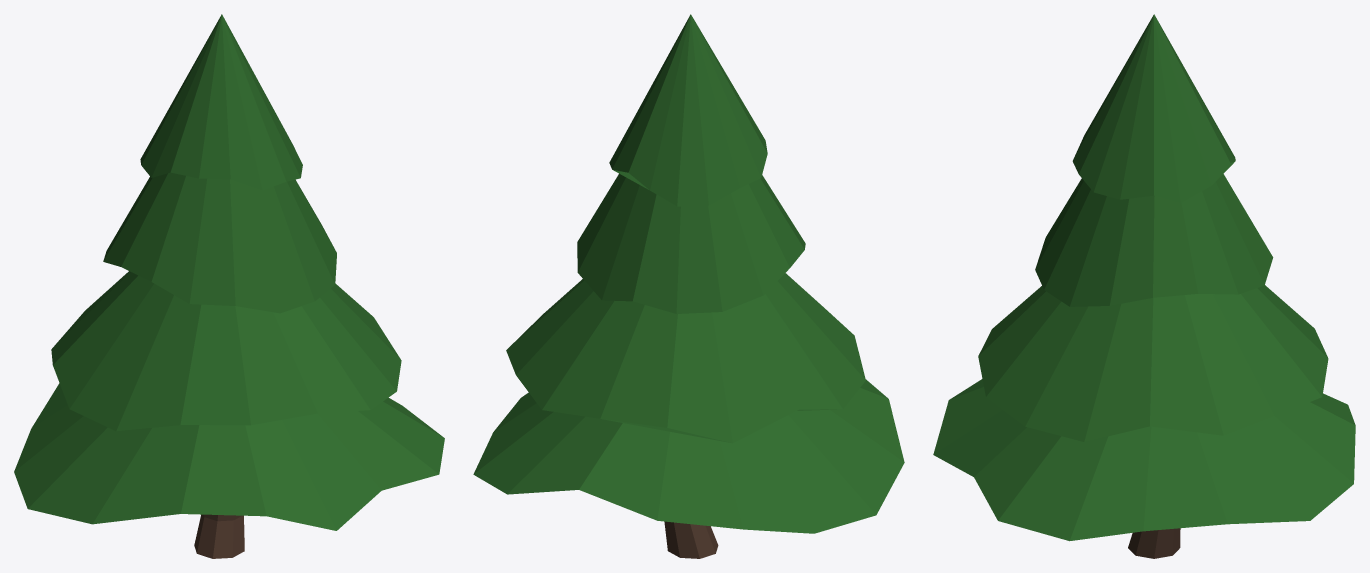
Rendered from tree (1).fbx.
The picture shows the model from 3 angles, left to right: view 1: azimuth 30°, elevation 25°; view 2: azimuth 150°, elevation 25°; view 3: azimuth 270°, elevation 25°; orthographic projection.
Parts seen in each view (by area): view 1: Cone, Cone.001, Cone.002, Cone.003, Cylinder; view 2: Cone.001, Cone, Cone.002, Cone.003, Cylinder; view 3: Cone.001, Cone, Cone.002, Cone.003, Cylinder.
Boxes of the visible parts, left/top/right/bottom form: Cone: left=14, top=383, right=444, bottom=530; Cone.001: left=51, top=271, right=401, bottom=431; Cone.002: left=103, top=172, right=336, bottom=313; Cone.003: left=140, top=14, right=302, bottom=190; Cylinder: left=194, top=514, right=244, bottom=558; Cone.001: left=506, top=273, right=865, bottom=443; Cone: left=473, top=379, right=904, bottom=533; Cone.002: left=577, top=173, right=805, bottom=313; Cone.003: left=609, top=14, right=767, bottom=206; Cylinder: left=664, top=521, right=718, bottom=558; Cone.001: left=978, top=285, right=1328, bottom=441; Cone: left=933, top=379, right=1355, bottom=541; Cone.002: left=1035, top=174, right=1273, bottom=306; Cone.003: left=1072, top=14, right=1235, bottom=203; Cylinder: left=1128, top=528, right=1180, bottom=558.
Size of the model in its own units: 1333 by 1833 by 1312.
